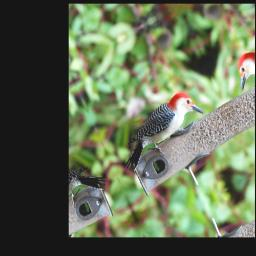Woodpecker: (108, 84, 212, 177)
